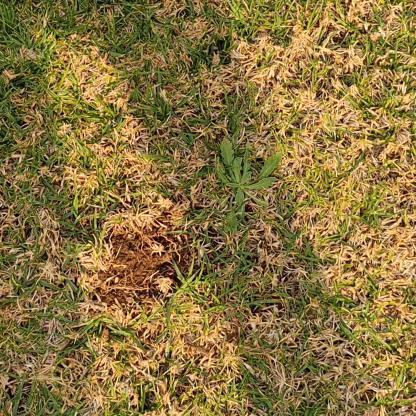Weeds: (217, 137, 283, 235)
